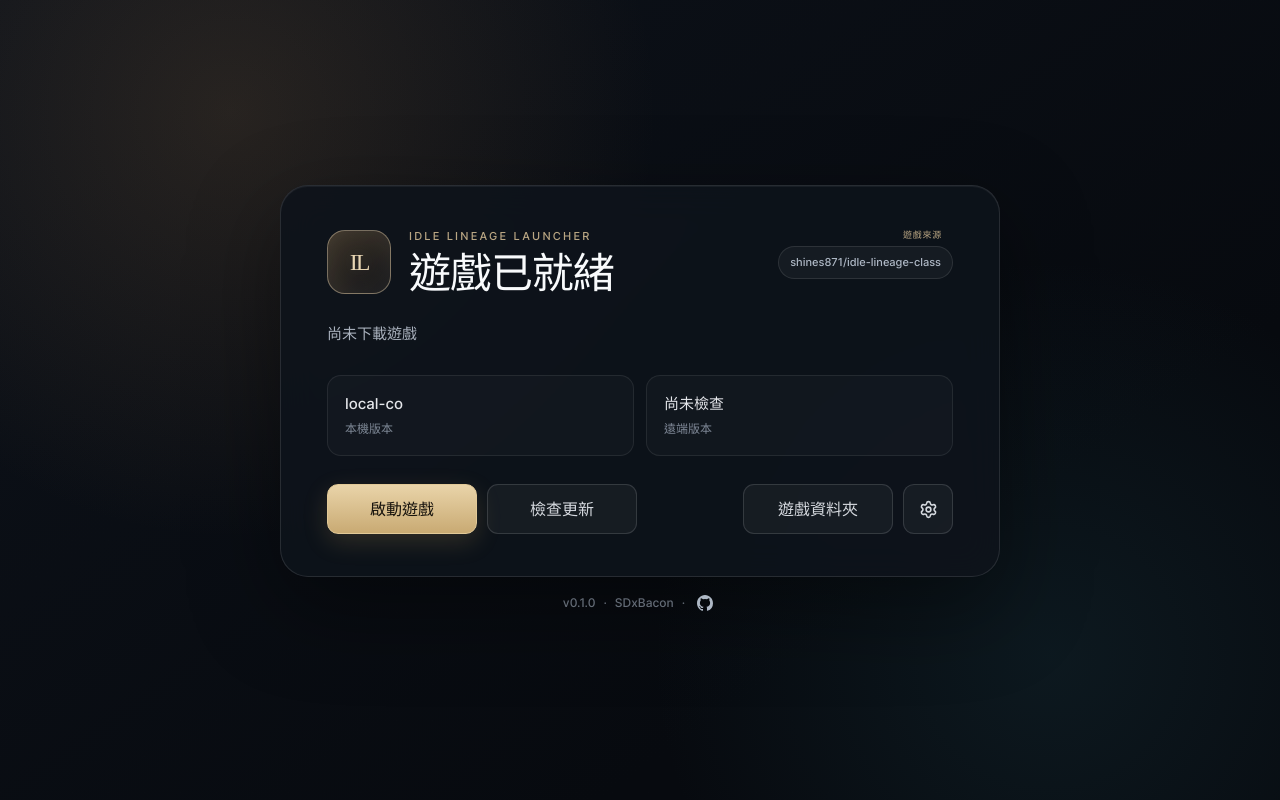
Test case: App › keeps repository action errors visible in settings
This screenshot has width=1280, height=800.
Click the button named "開啟啟動器設置頁".
click(928, 509)  # box [903,484,953,534]
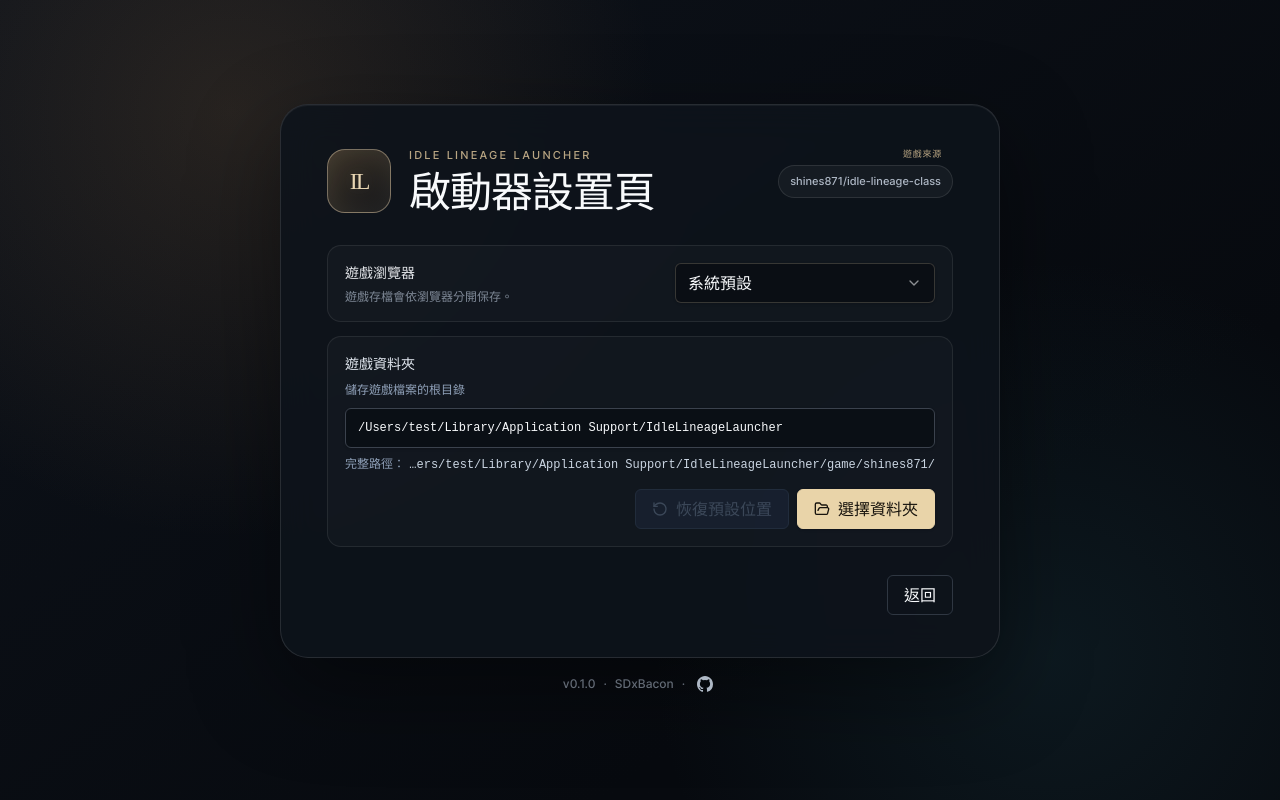
Click the button with aria-label "在 GitHub 開啟 shines871/idle-lineage-class".
click(866, 182)  # box [778,165,953,198]
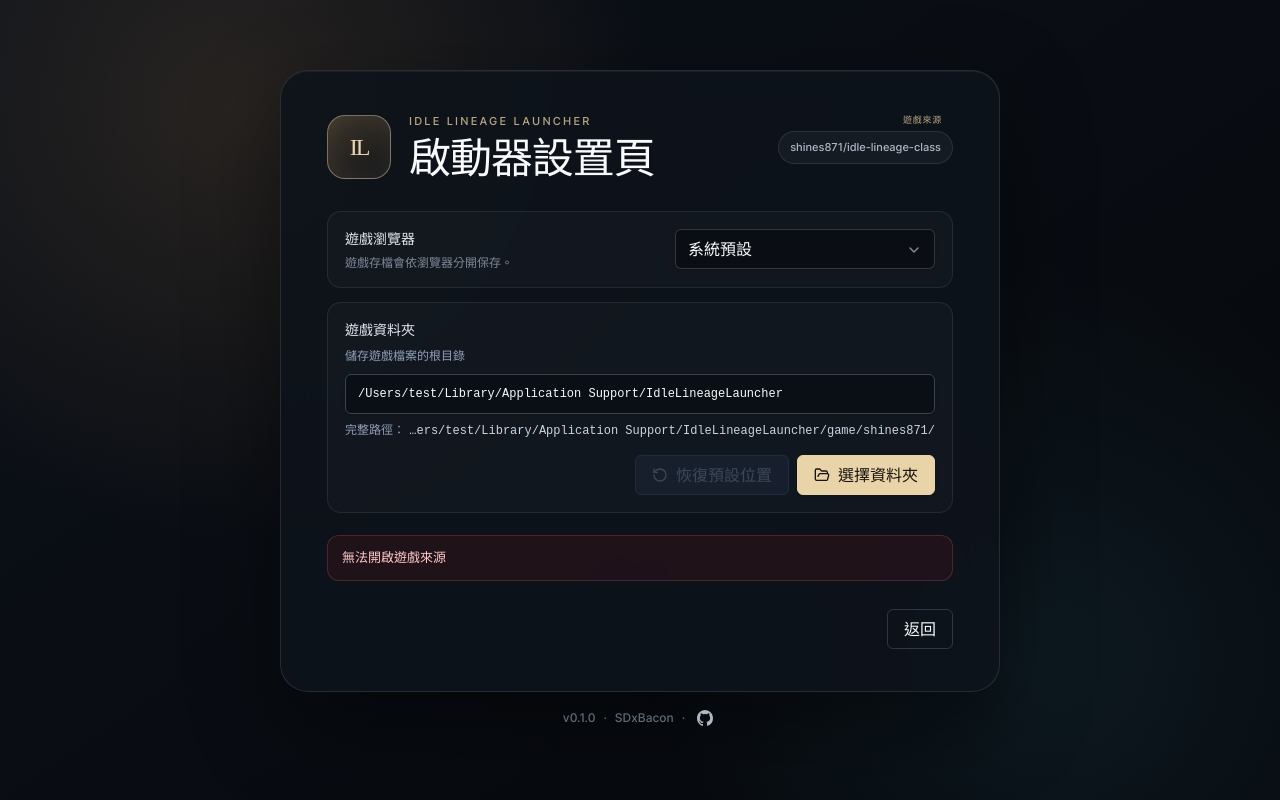
Result: the heading "啟動器設置頁" is shown at [409,137,655,183]
Result: the message reads "無法開啟遊戲來源" at [342,549,446,565]
